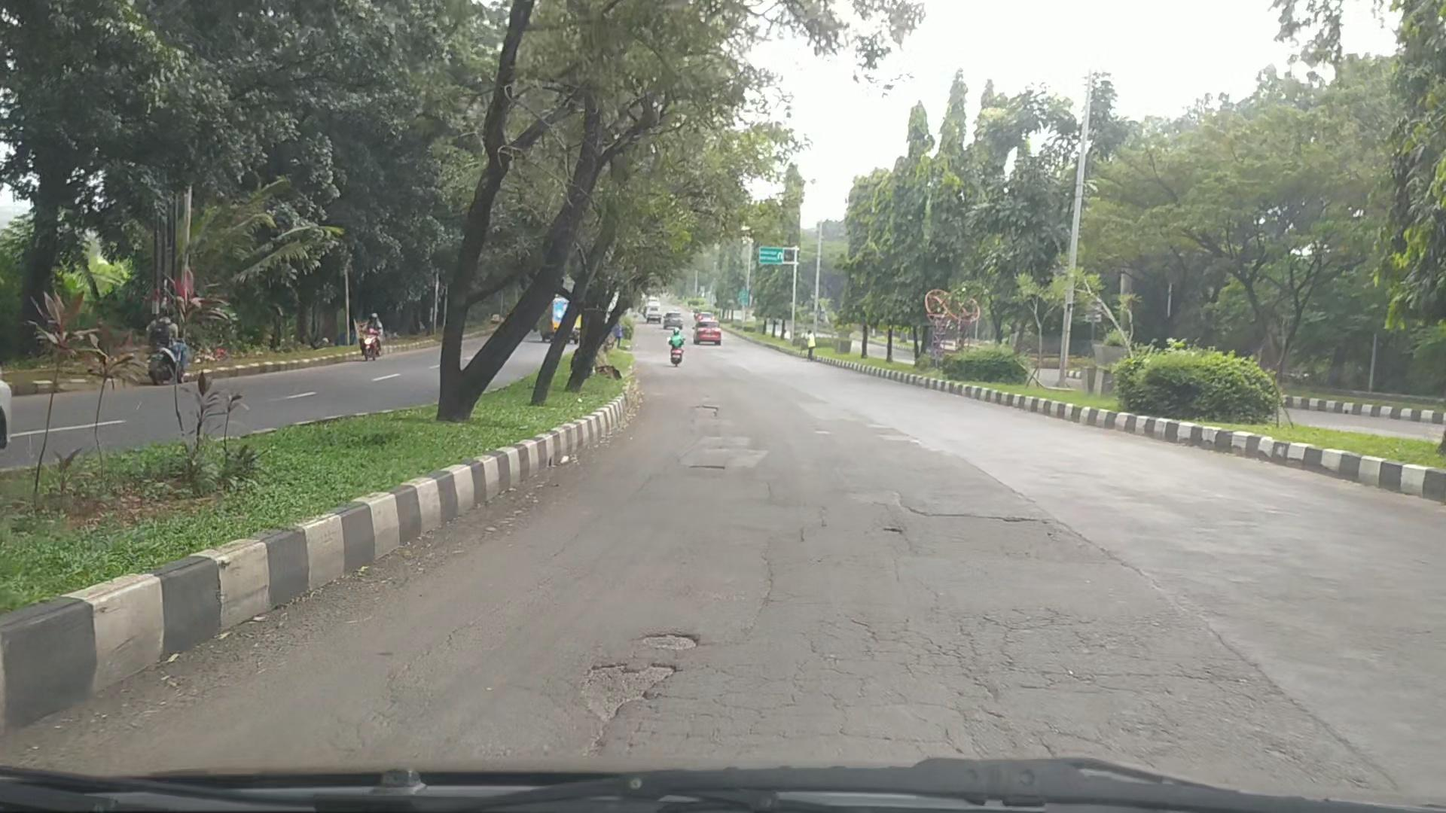pothole: (580, 661, 677, 724), (643, 631, 700, 650), (695, 405, 719, 417), (689, 465, 727, 470)
